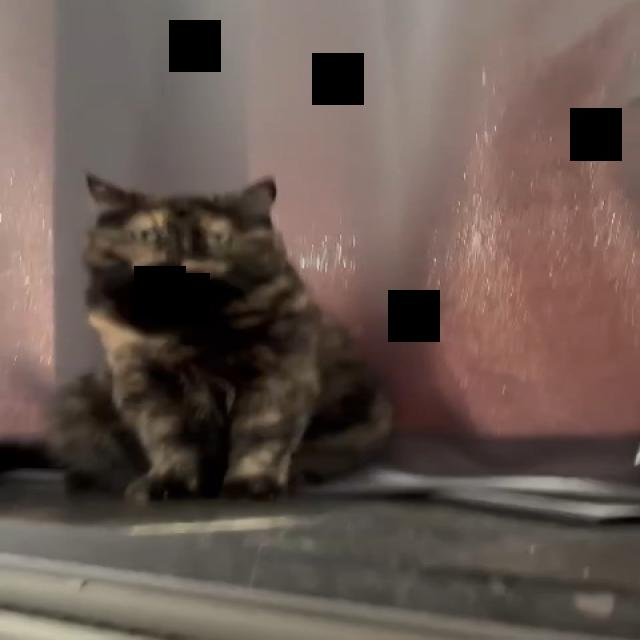authorized: (45, 171, 398, 504)
